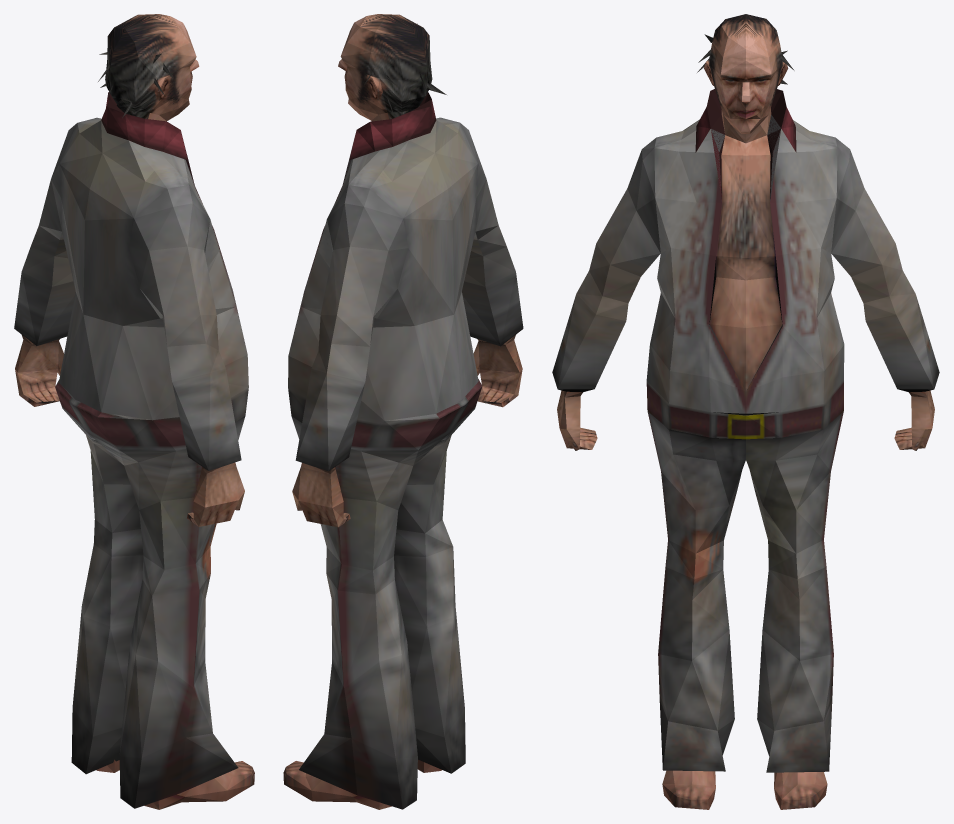
The model's file is vwmotr2.obj.
The picture shows the model from 3 angles, left to right: view 1: azimuth 30°, elevation 25°; view 2: azimuth 150°, elevation 25°; view 3: azimuth 270°, elevation 25°; orthographic projection.
Parts seen in each view (by area): view 1: _Pelvis; view 2: _Pelvis; view 3: _Pelvis.
Boxes of the visible parts, x1,y1,x2,y2 form: _Pelvis: (14, 14, 254, 809); _Pelvis: (283, 14, 523, 809); _Pelvis: (552, 14, 939, 809).
Size of the model in its own units: 0.4026 by 1.84 by 0.8511.
Materials: 1 (1 with a texture image).
